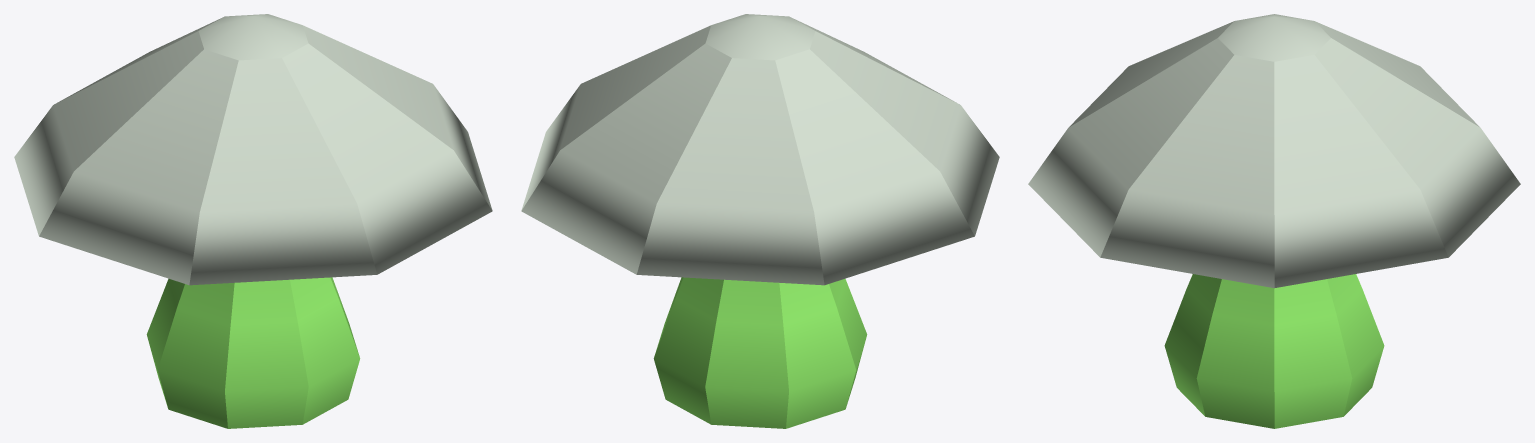
File: mushroom.fbx
3 renders of one model, left to right at view 1: azimuth 30°, elevation 25°; view 2: azimuth 150°, elevation 25°; view 3: azimuth 270°, elevation 25°, orthographic.
Visible parts, largest first — view 1: polySurface3; view 2: polySurface3; view 3: polySurface3.
Part boxes in pixels (x1,y1,x2,y2): polySurface3: [14, 14, 492, 428]; polySurface3: [521, 14, 999, 428]; polySurface3: [1028, 14, 1520, 428].
Size of the model in its own units: 11.86 by 9.84 by 11.86.
